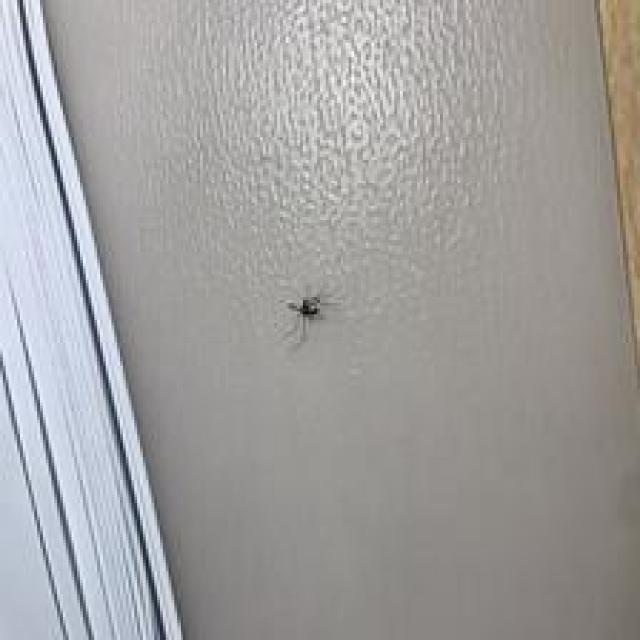Aedes albopictus: (280, 290, 337, 344)
